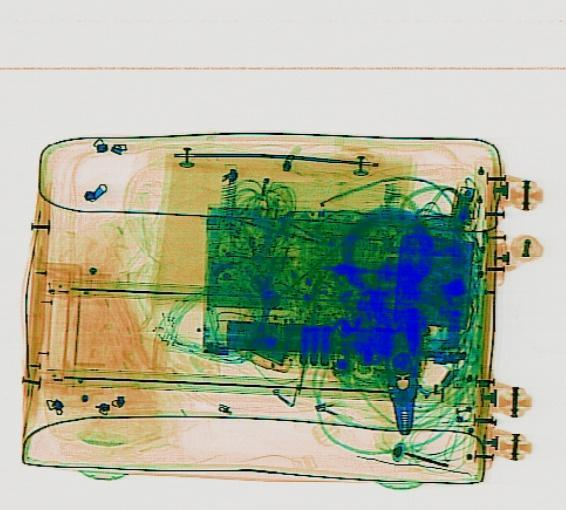Pliers: (382, 310, 423, 435)
